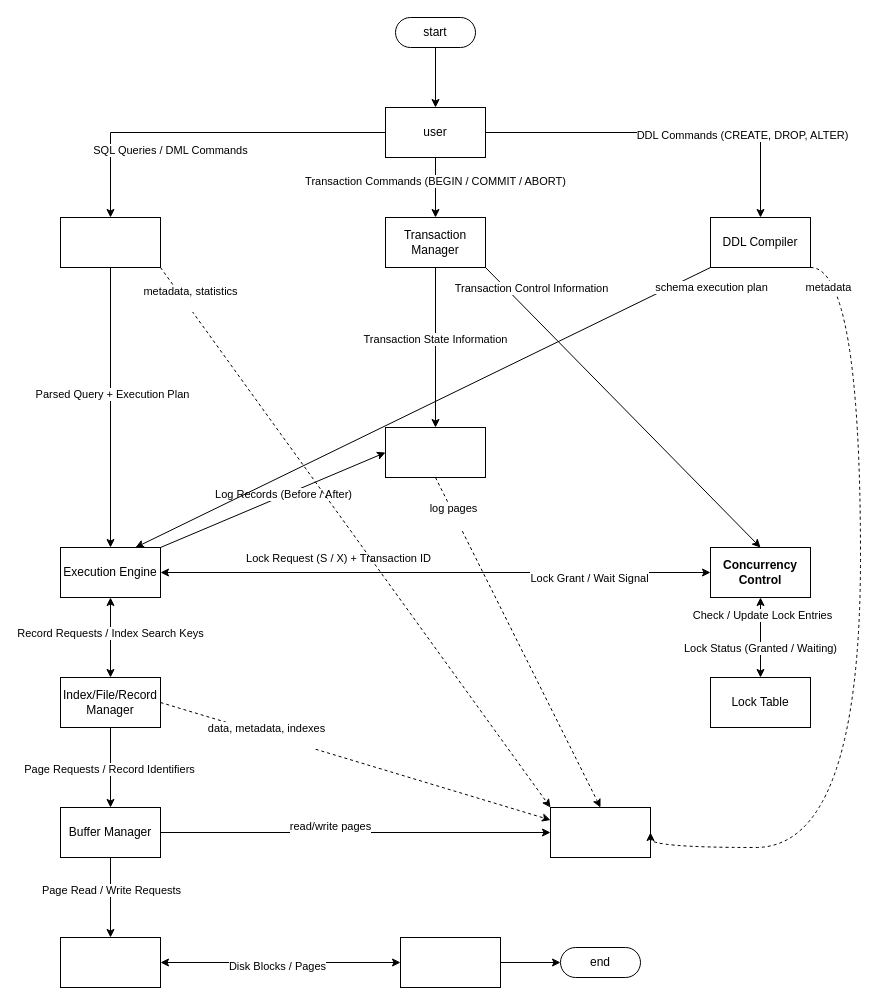
Image size: 878x1005. Some labels were removed from this diagram. Here are the shapes that lost their labels. From the top down, the centre of each, then its label:
At point (110, 242): "Query Compiler".
At point (435, 452): "Logging and Recovery".
At point (600, 832): "Buffers".
At point (110, 962): "Storage Manager".
At point (450, 962): "Storage".
